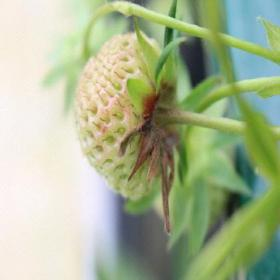Gray Mold: (118, 90, 181, 235)
